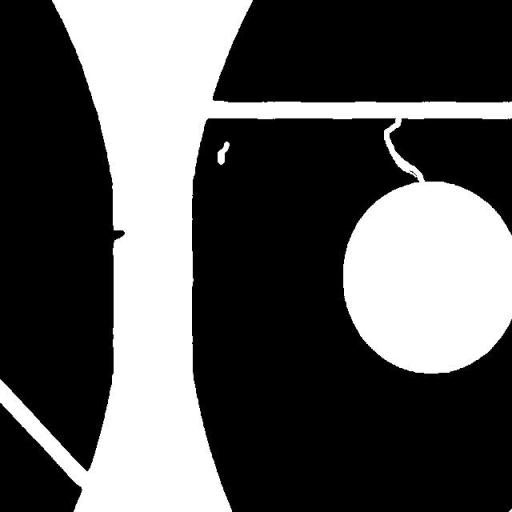open: (376, 109, 432, 191)
pin-hole: (210, 134, 236, 172)
spur: (102, 222, 132, 250)
